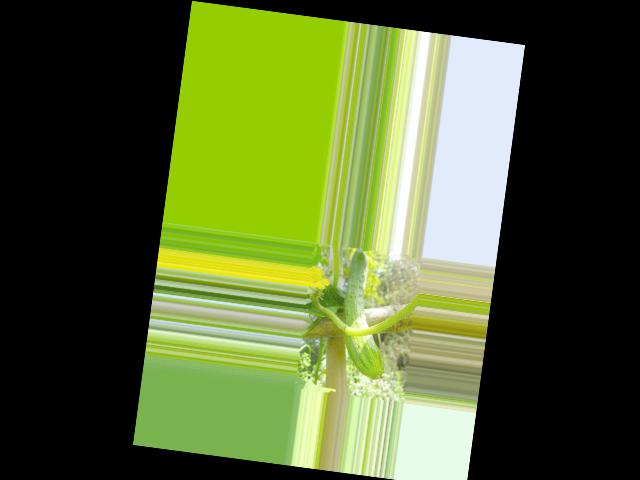cucumber: (335, 247, 398, 380)
